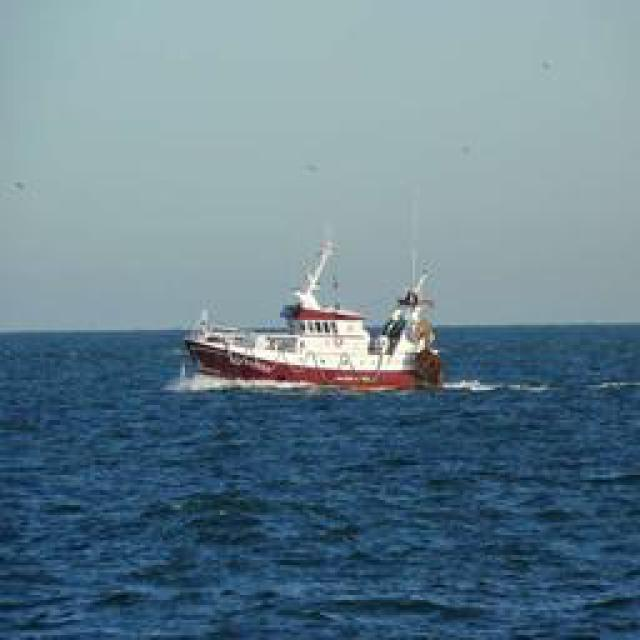Ship: (185, 240, 470, 395)
